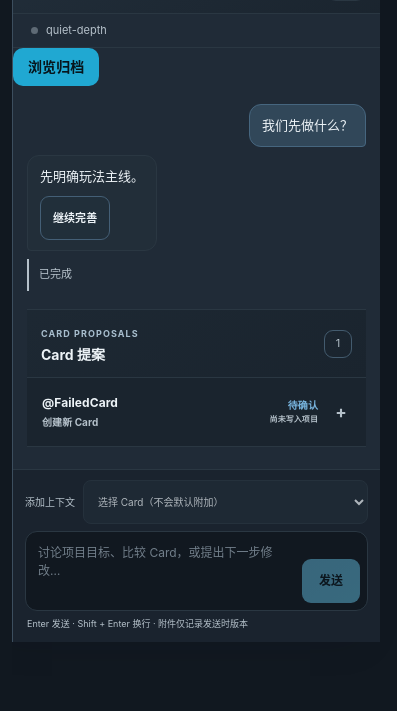
Test case: ProjectConversationDrawer › 提案动作失败时显示错误且不导航、不关闭确认层
Click the button "@FailedCard 创建新 Card 待确认 尚未写入项目 +" at (86, 402), box [27, 378, 366, 446]
(page scrolled)
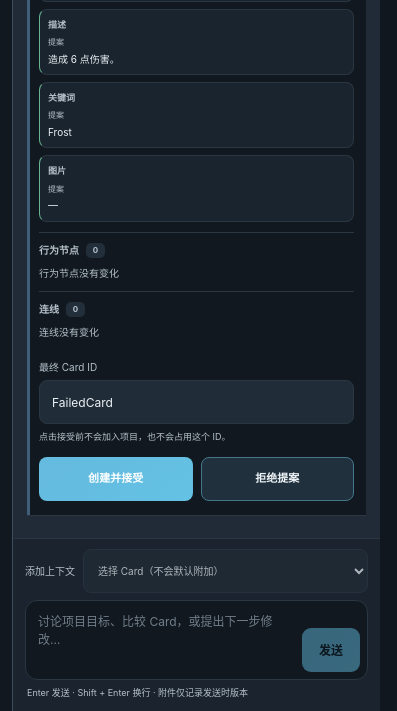
Click the button "拒绝提案" at (277, 479), box [200, 457, 354, 501]
(page scrolled)
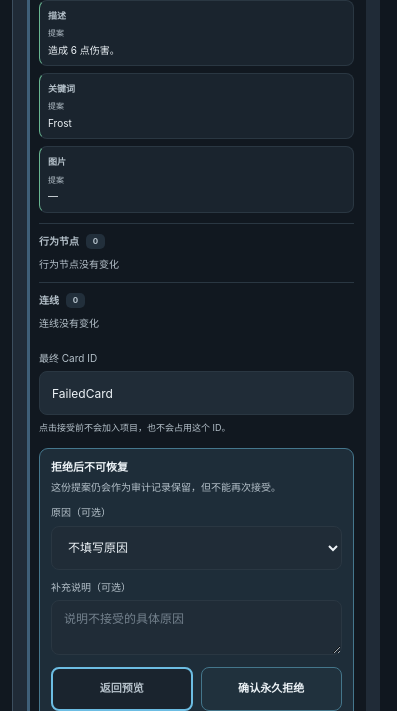
Click the button "确认永久拒绝" at (271, 689), box [200, 667, 342, 710]
(page scrolled)
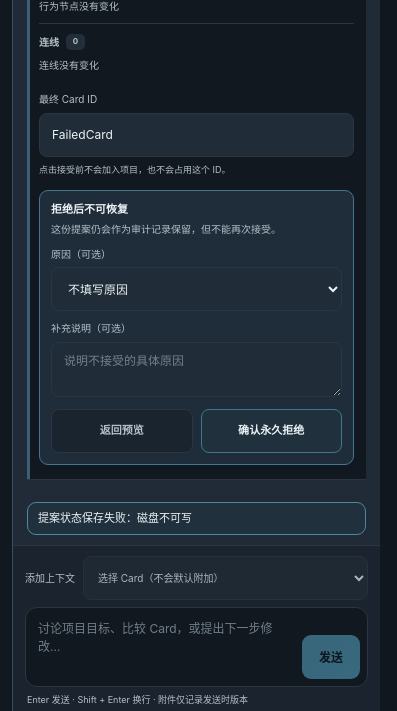
Expected: the element named "确认拒绝提案" is shown, [39, 190, 354, 464]
Expected: the text "提案状态保存失败：磁盘不可写" is shown, [27, 502, 366, 535]
